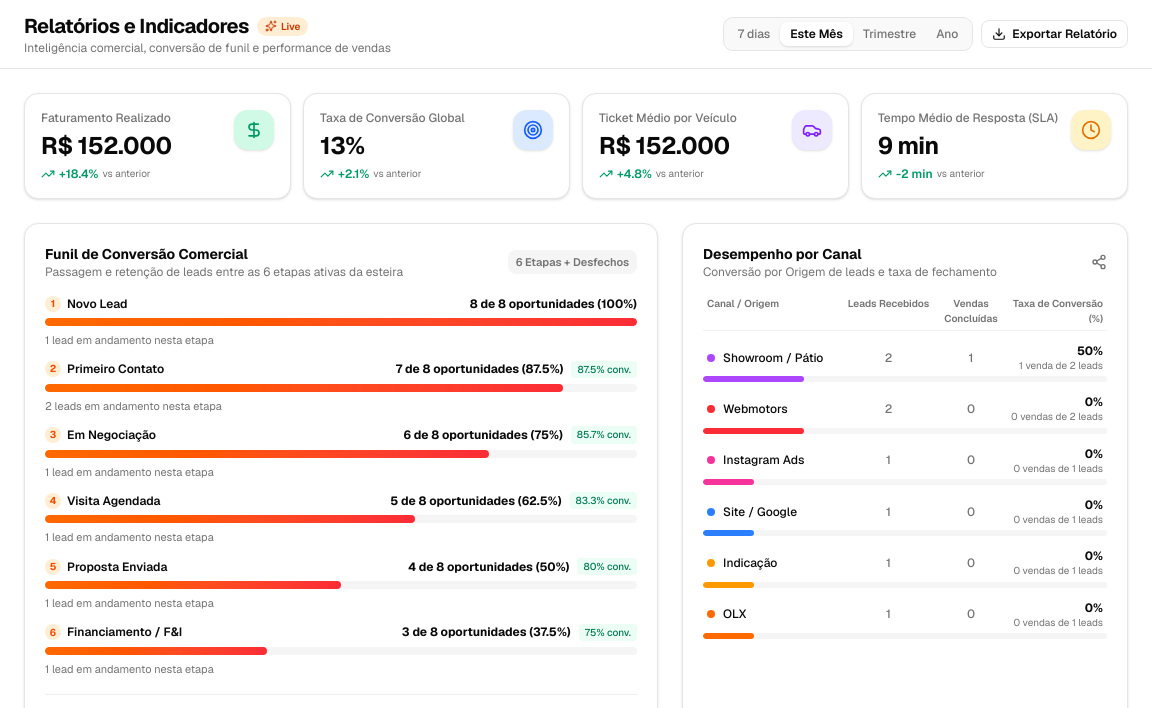
it: [IT-08] Relatórios e Indicadores Comerciais (ReportsPage) › [IT-08.2] Deve alternar entre os filtros de período (7 dias, Este Mês, Trimestre, Ano) atualizando o estado ativo
This screenshot has width=1152, height=708.
# Act 1 (Quando o usuário clica no filtro '7 dias')
Click the tab "7 dias". click: (754,34)
box: left=728, top=22, right=780, bottom=46
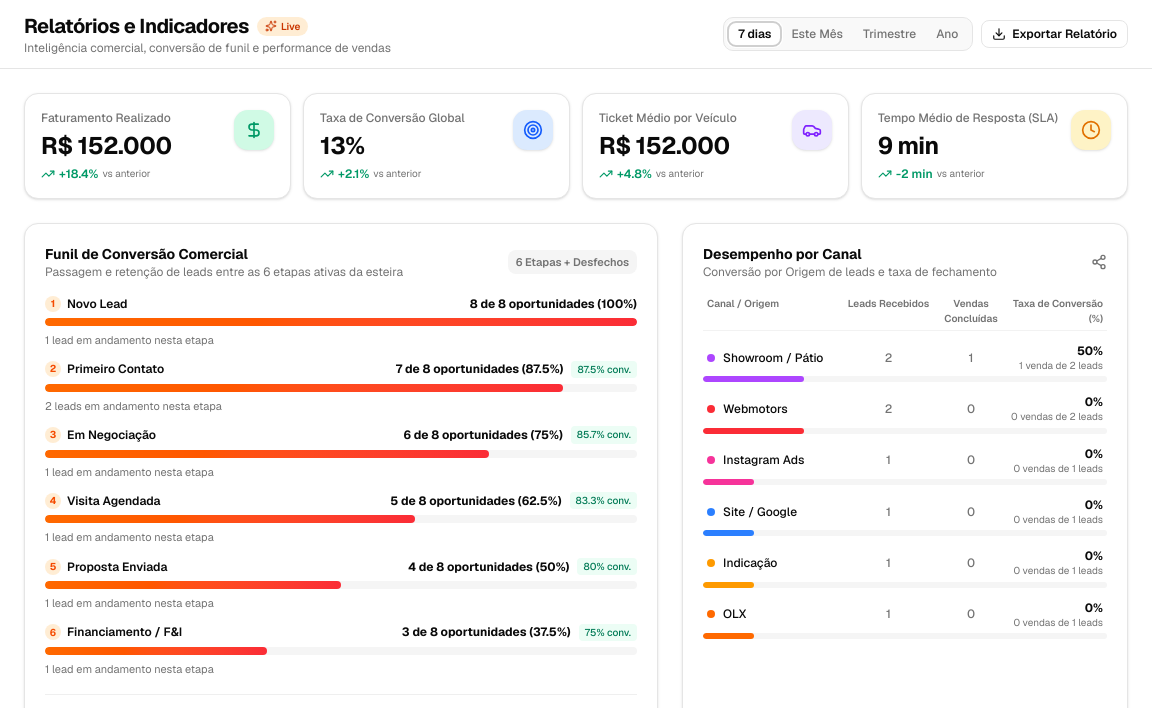
Result: the tab "7 dias" is selected at left=728, top=22, right=781, bottom=46
Result: the tab "Este Mês" is not selected at left=781, top=22, right=853, bottom=46
# Act 2 (Quando o usuário clica no filtro 'Trimestre')
Click the tab "Trimestre". click: (890,34)
box: left=853, top=22, right=926, bottom=46
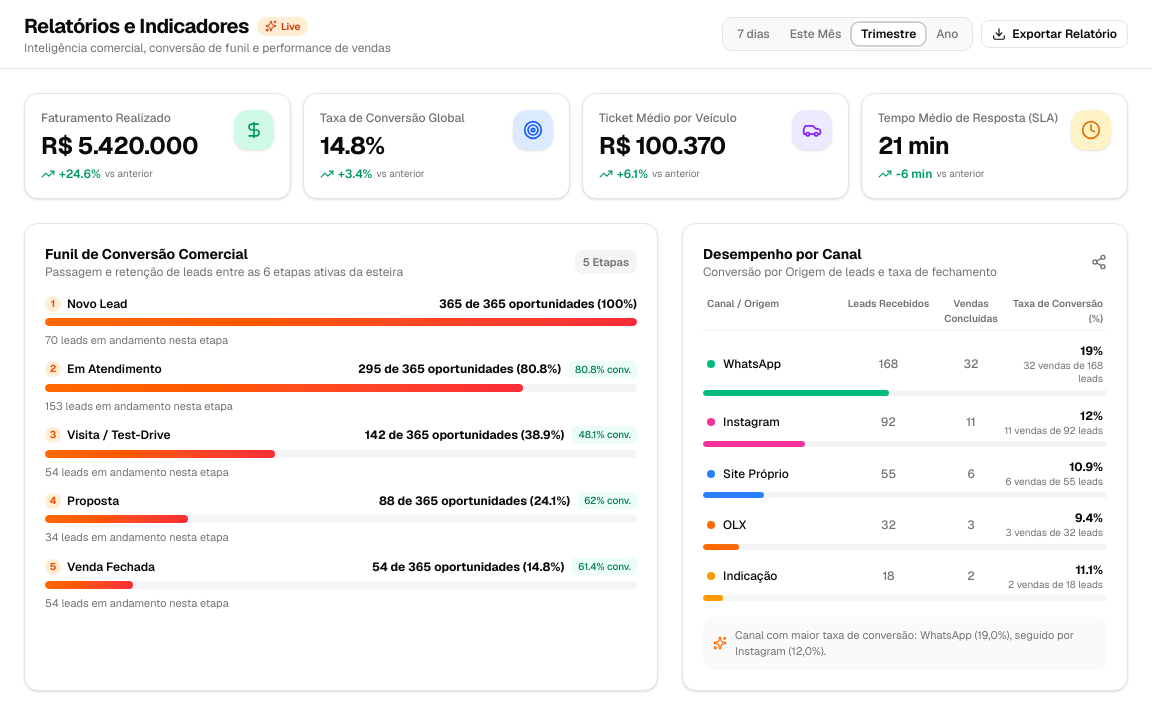
Result: the text "R$ 5.420.000" is shown at left=41, top=130, right=198, bottom=161
# Act 3 (Quando o usuário clica em 'Ano')
Click the tab "Ano". click: (947,34)
box: left=926, top=22, right=968, bottom=46
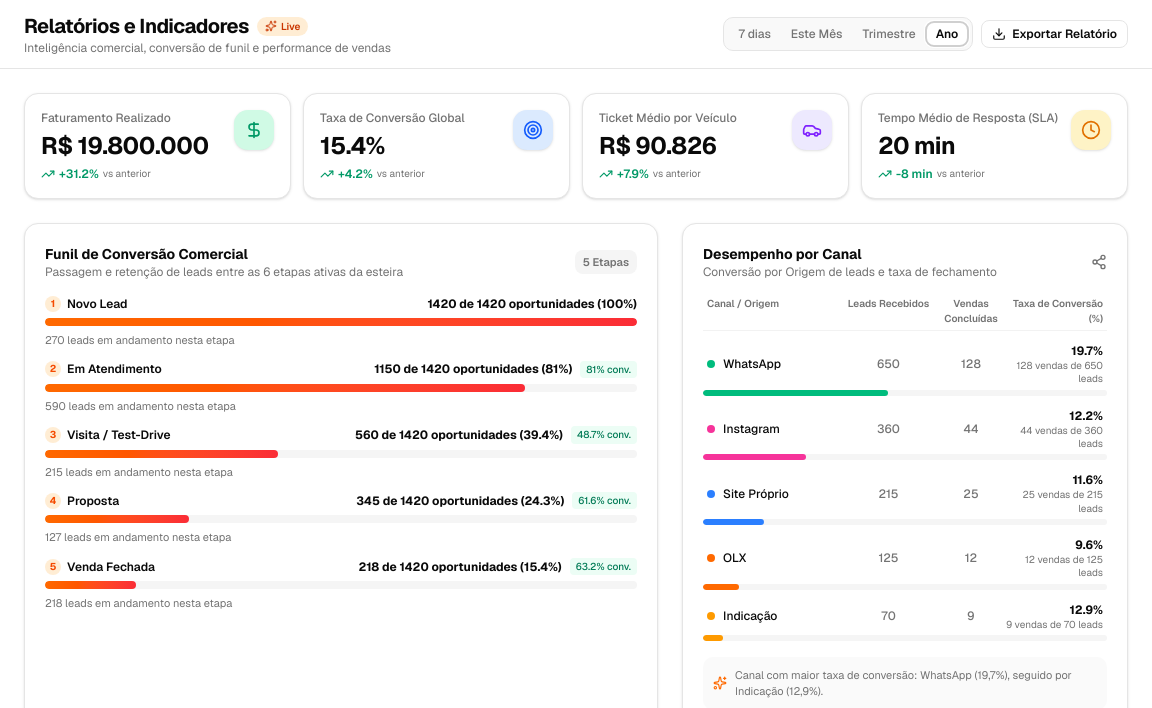
Result: the text "R$ 19.800.000" is shown at left=41, top=130, right=234, bottom=162
